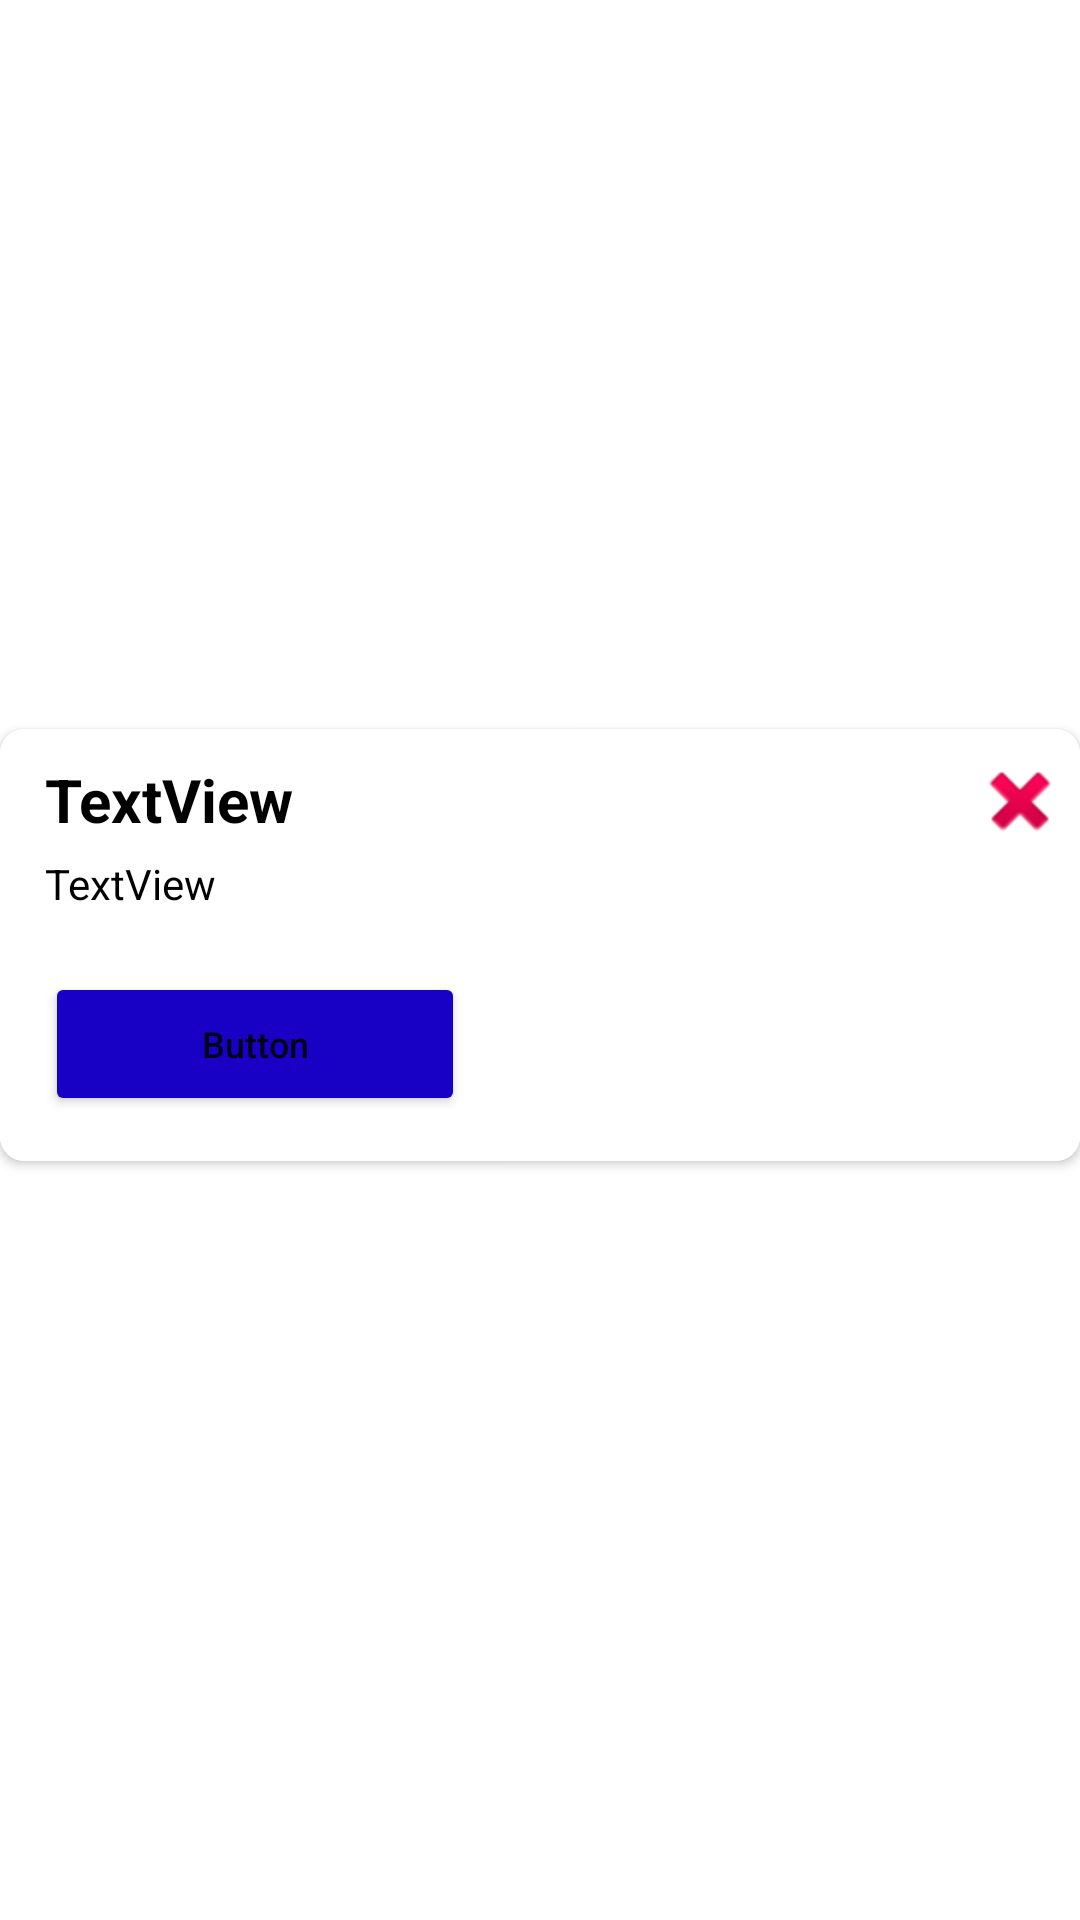

Named icons in this screenshot (1080*1920) and their bounding boxes, (x1, y1, x2, y2):
delete: (989, 772, 1051, 831)
